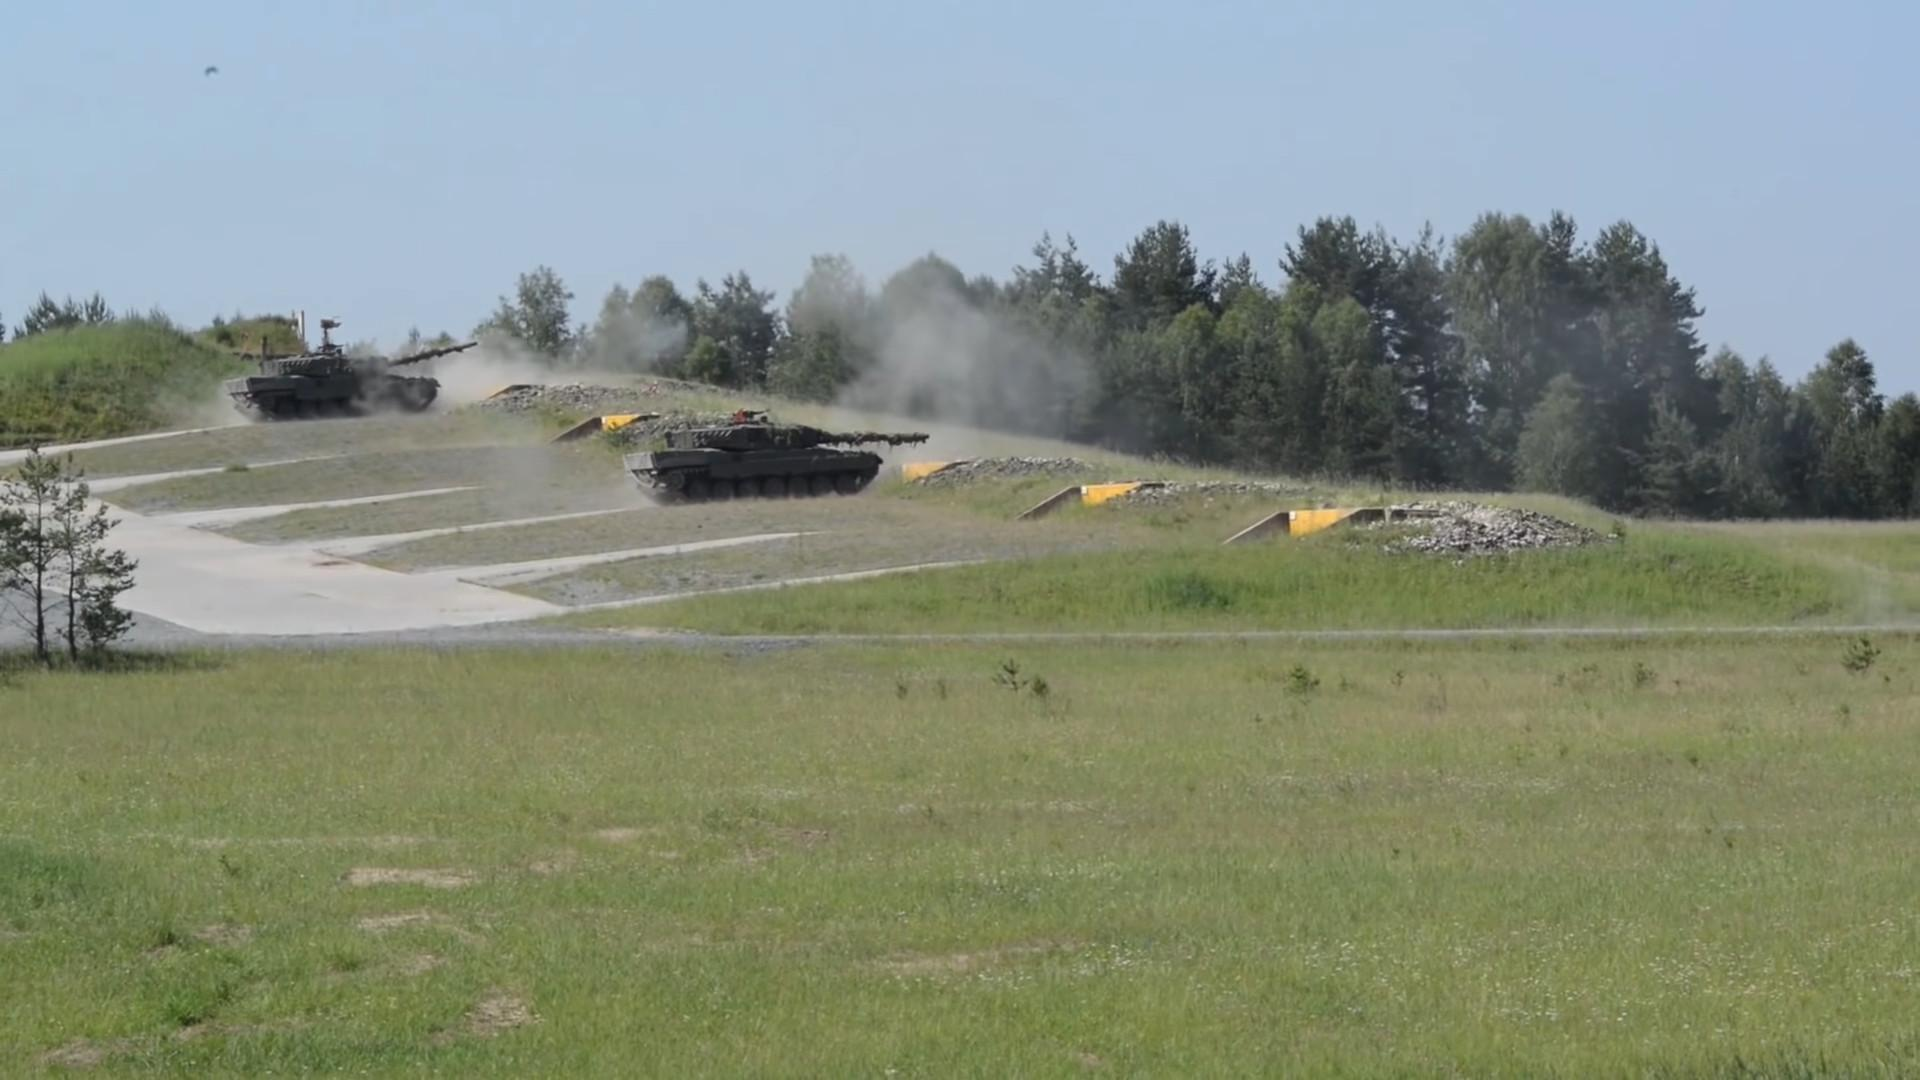tank: (621, 425, 926, 505), (224, 342, 477, 423)
